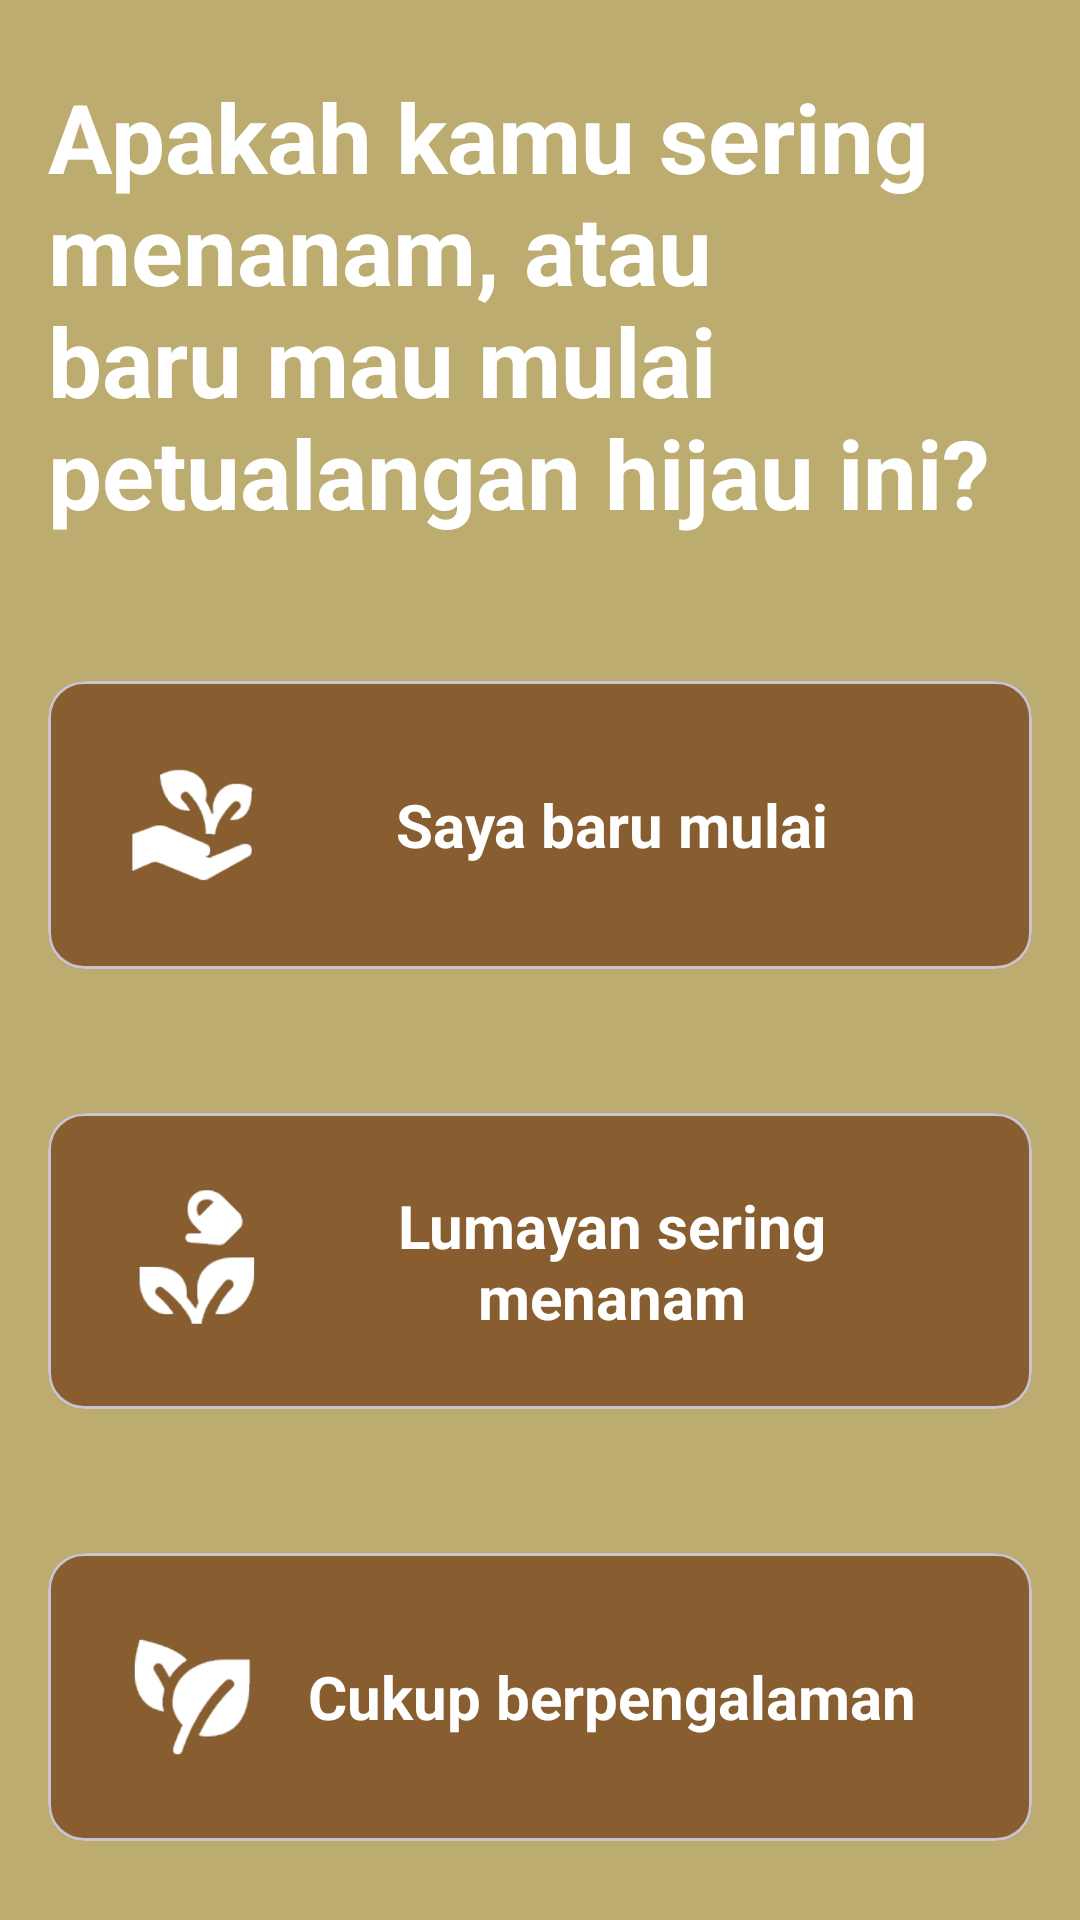

Icons on this 1080px×1920px Android screen, each with its box as (x1, y1, x2, y2):
start beginner onboarding: (132, 769, 253, 881)
start experienced onboarding: (134, 1639, 250, 1755)
start slightly experience onboarding: (139, 1190, 255, 1324)
